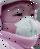with_mask: (2, 1, 40, 49)
